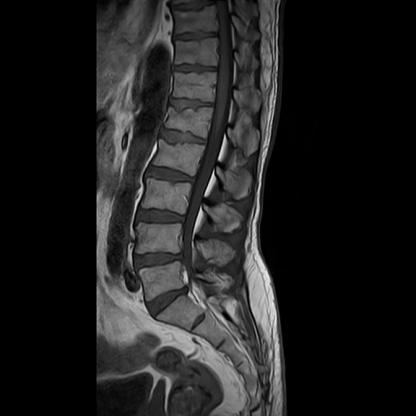Annular Disc Relaxationrotation: (157, 128, 209, 148), (144, 165, 196, 184)
Disc Bulgerotation: (144, 289, 195, 312), (135, 249, 184, 271)
